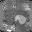people: (14, 14, 26, 25)
